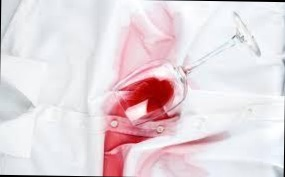wine: (98, 105, 172, 176), (120, 9, 180, 82), (149, 143, 213, 177)
